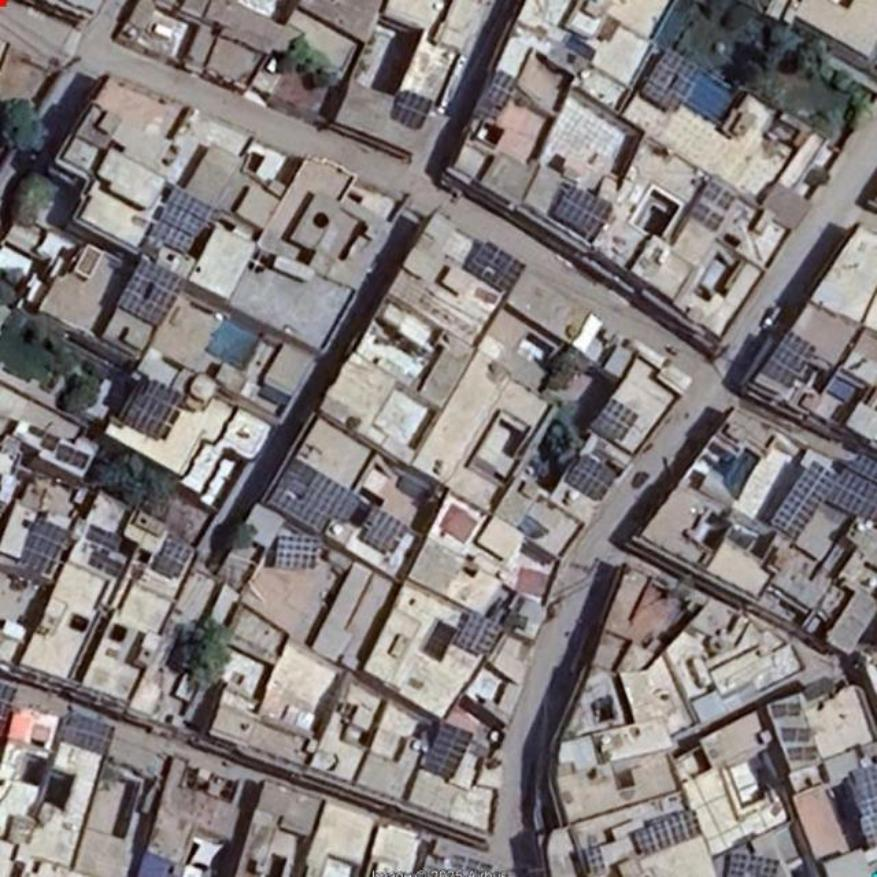Solarpanel: (268, 456, 364, 539), (769, 460, 841, 537), (116, 259, 186, 324), (152, 185, 212, 250), (642, 52, 701, 116), (124, 381, 184, 441), (827, 455, 876, 524), (761, 330, 818, 387), (633, 811, 704, 854), (553, 187, 614, 234), (467, 241, 525, 290), (20, 526, 64, 579), (848, 765, 876, 847), (427, 723, 470, 776), (59, 717, 113, 757), (458, 614, 506, 658), (567, 457, 616, 500), (592, 400, 637, 442), (360, 510, 404, 550), (391, 92, 434, 129), (274, 536, 322, 566), (493, 72, 522, 110), (727, 856, 779, 876), (89, 550, 127, 577), (85, 526, 123, 552), (693, 203, 724, 232), (705, 182, 736, 210), (161, 537, 193, 562), (586, 847, 605, 874), (787, 748, 816, 760), (774, 704, 799, 717), (783, 729, 809, 740)
